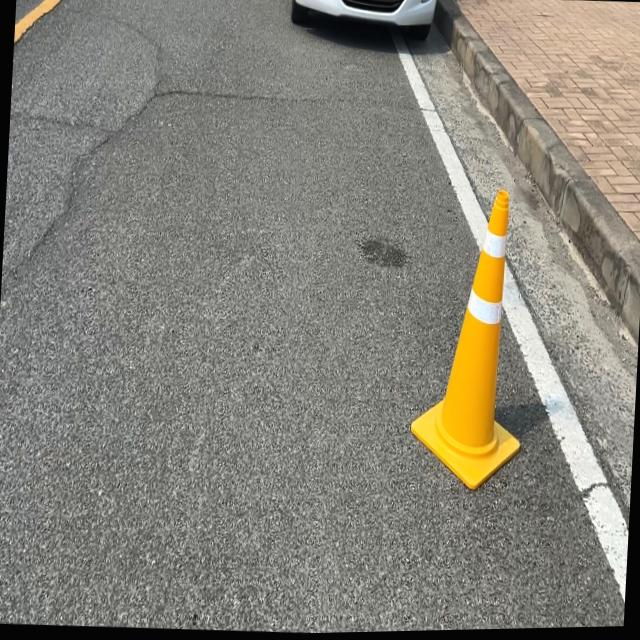y_rub: (412, 191, 521, 492)
